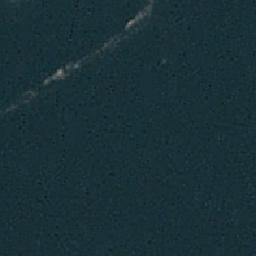debris: (119, 12, 154, 31), (42, 70, 75, 83)
